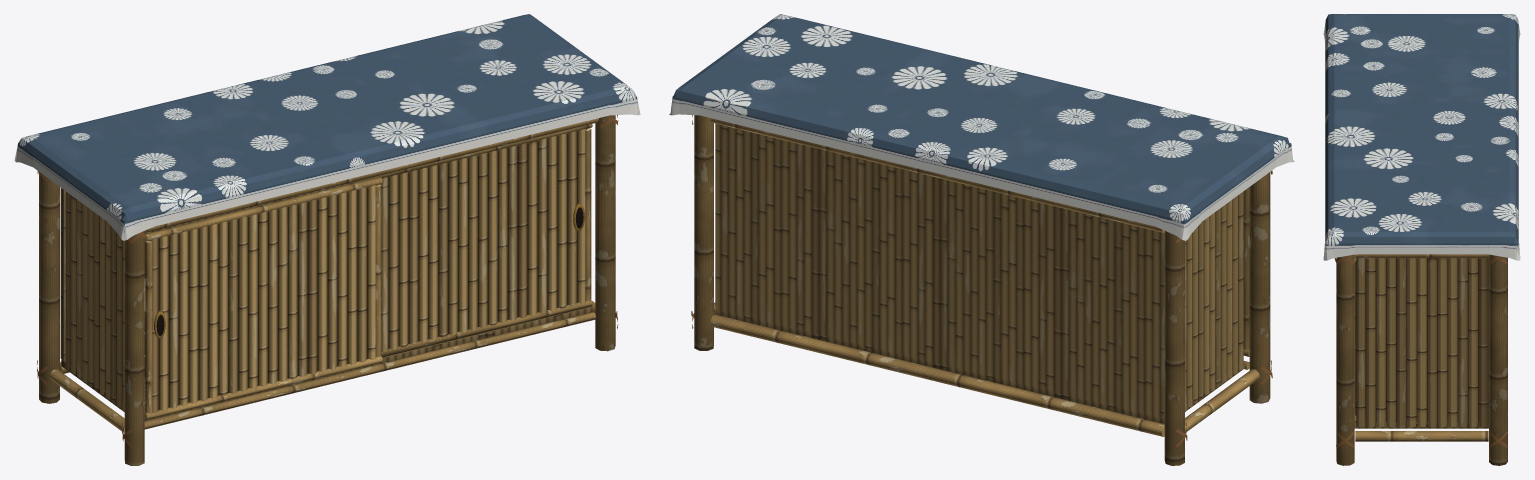
File: servecounter.glb
The picture shows the model from 3 angles, left to right: view 1: azimuth 30°, elevation 25°; view 2: azimuth 150°, elevation 25°; view 3: azimuth 270°, elevation 25°; orthographic projection. The views are drawn at different scales.
Parts seen in each view (by area): view 1: ServeCounter, ServeDoor0, ServeDoor1; view 2: ServeCounter, ServeDoor0; view 3: ServeCounter, ServeDoor1.
Part boxes in pixels (x1=…): ServeCounter: x1=14, y1=14, x2=640, y2=465; ServeDoor0: x1=144, y1=176, x2=382, y2=420; ServeDoor1: x1=353, y1=124, x2=592, y2=357; ServeCounter: x1=669, y1=14, x2=1294, y2=465; ServeDoor0: x1=1243, y1=187, x2=1249, y2=356; ServeCounter: x1=1323, y1=14, x2=1520, y2=465; ServeDoor1: x1=1354, y1=255, x2=1356, y2=421.
Bounding box in the file's own units: 1.02 × 0.4955 × 0.3757.
10 materials, 3 textured.
